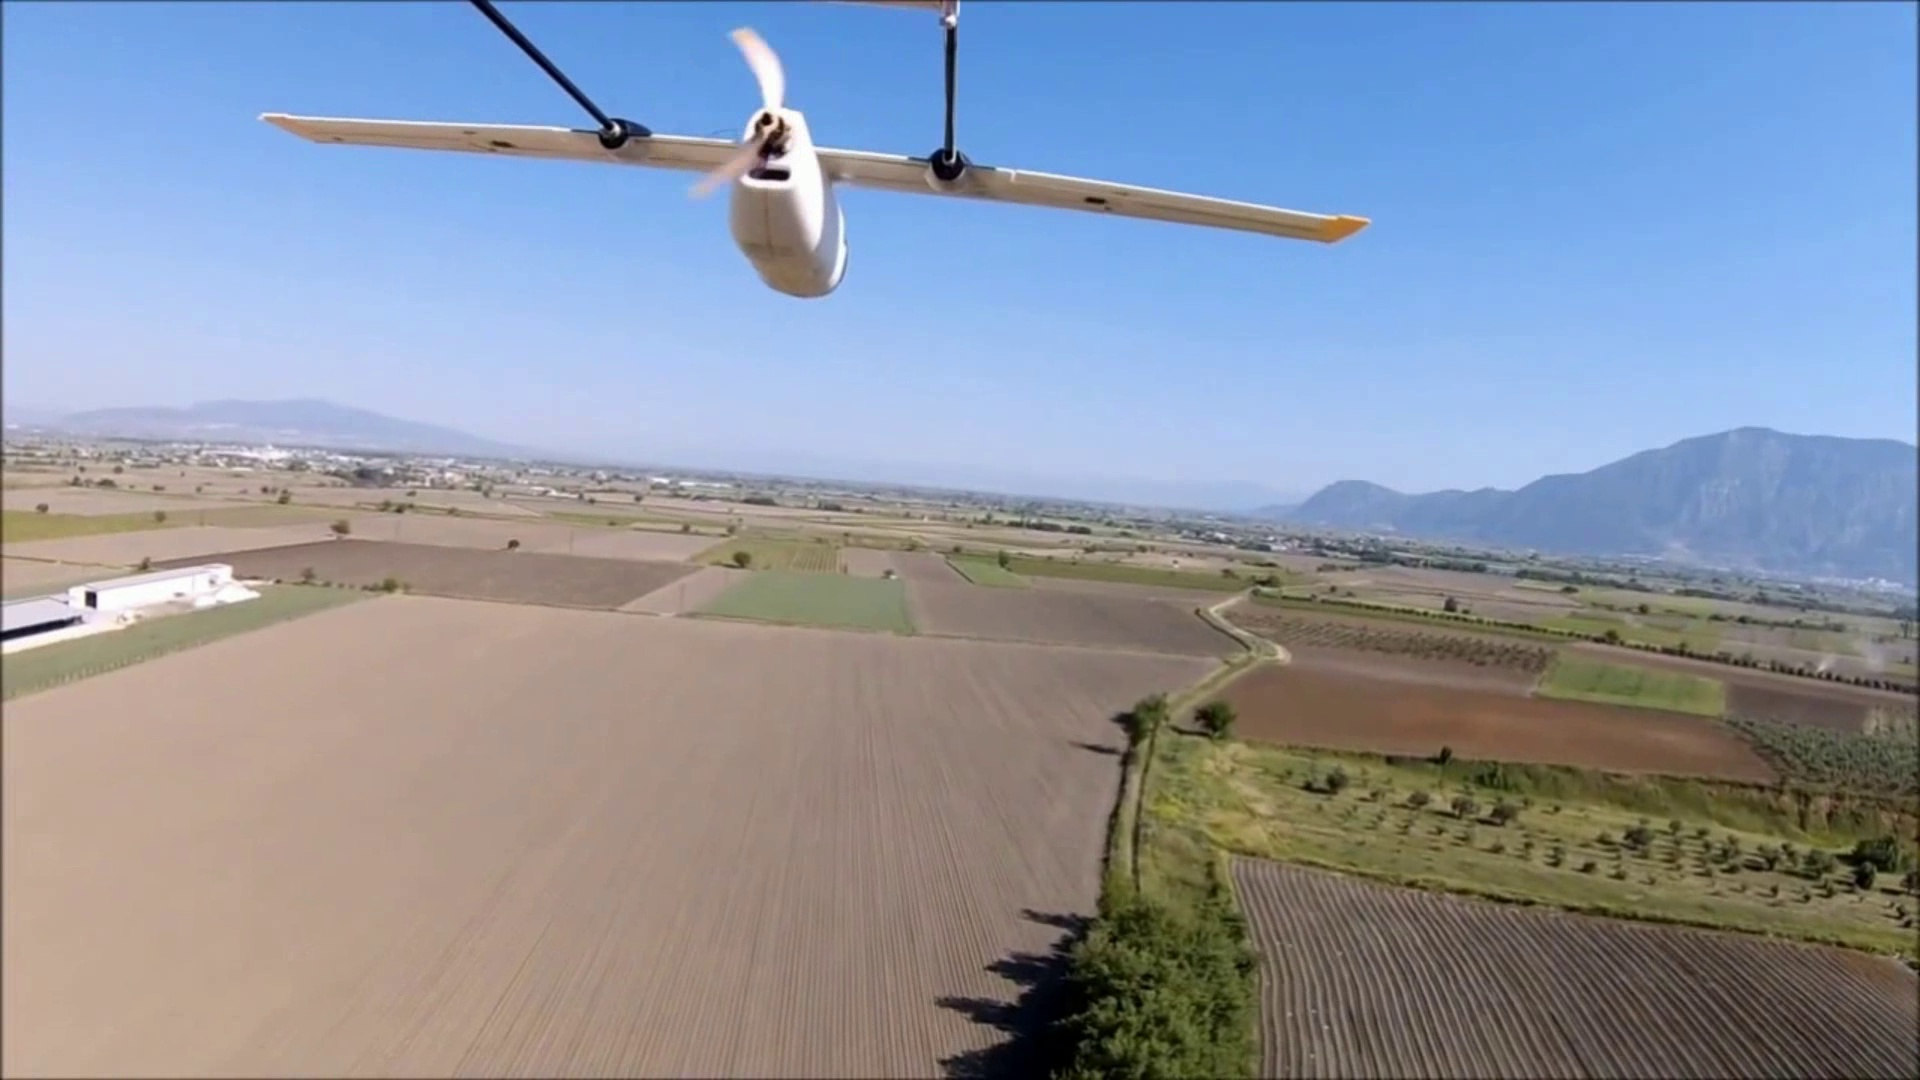airplane: (255, 1, 1367, 299)
